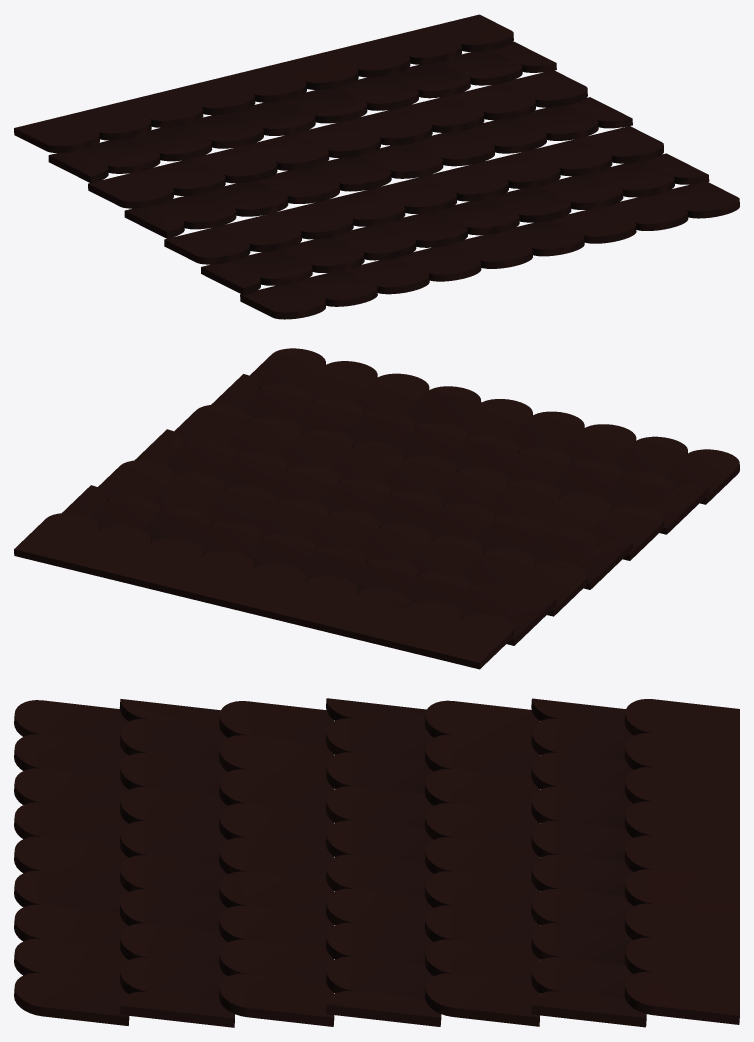
The model's file is Roof_Flat.fbx.
3 views of the same model, one above another, from view 1: azimuth 30°, elevation 25°; view 2: azimuth 150°, elevation 25°; view 3: azimuth 270°, elevation 25° (orthographic). The views are drawn at different scales.
Visible parts, largest first — view 1: Roof_Flat; view 2: Roof_Flat; view 3: Roof_Flat.
Boxes of the visible parts, x1,y1,x2,y2 form: Roof_Flat: (14,14,739,319); Roof_Flat: (14,348,739,669); Roof_Flat: (14,698,739,1027).
Size of the model in its own units: 100 by 3.81 by 100.
